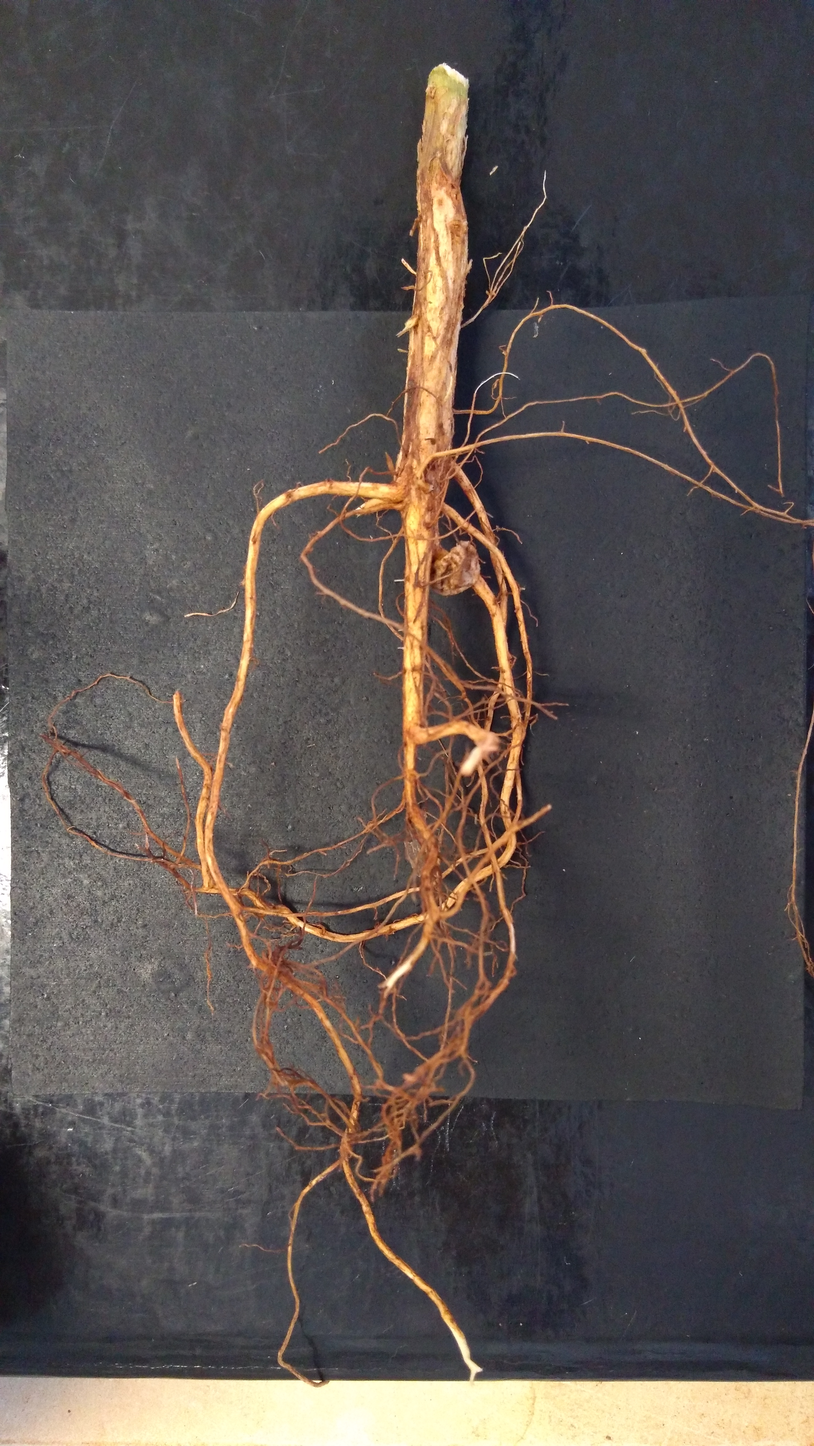nodule: (429, 540, 481, 597), (403, 838, 430, 878), (265, 947, 290, 972), (508, 653, 517, 668), (495, 524, 499, 532)
